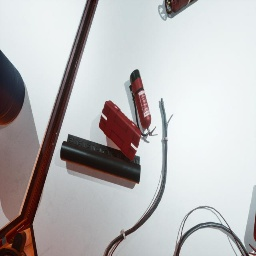FireExtinguisher ]: (129, 69, 158, 137), (248, 211, 256, 256)
FirstAidBox ,: (99, 100, 142, 161)
NitrogenTank ,: (165, 0, 194, 14)
